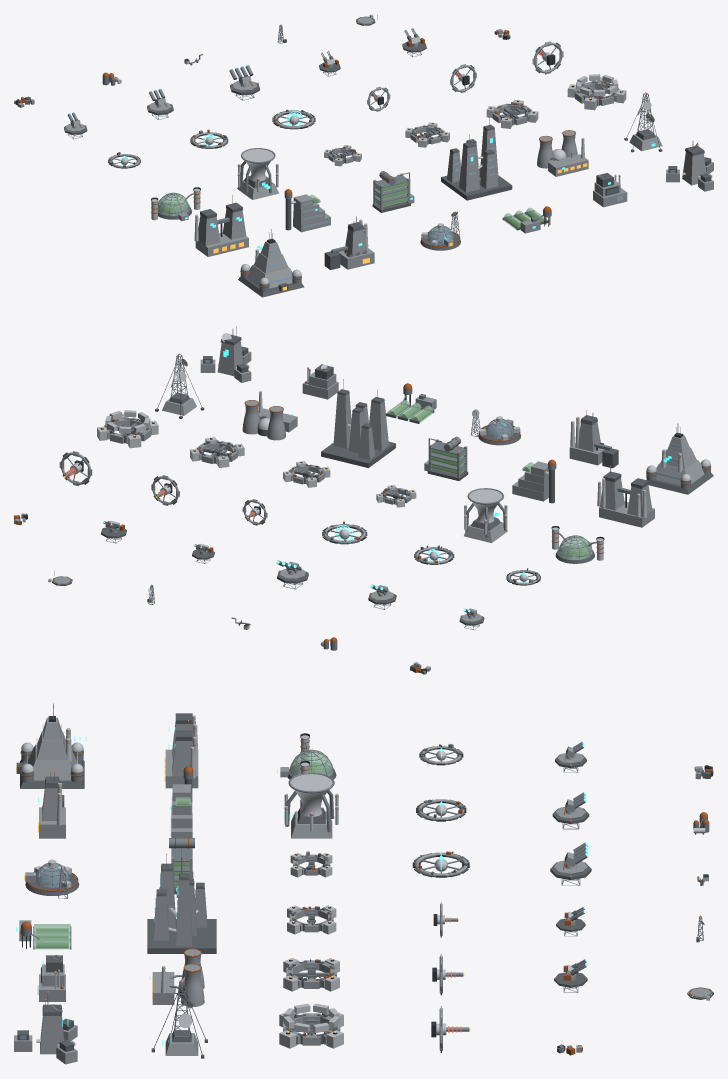
The model's file is building_constructor_industrial.glb.
The picture shows the model from 3 angles, top to bottom: view 1: azimuth 30°, elevation 25°; view 2: azimuth 150°, elevation 25°; view 3: azimuth 270°, elevation 25°; orthographic projection. The views are drawn at different scales.
Parts seen in each view (by area): view 1: 009_industrial_METROPLEX, 000_industrial_COLONY_BASE, 006_industrial_MEGAFACTORY, 013_industrial_TERRAFORMING, 010_industrial_POWER_PLANT, 001_industrial_FACTORY, 017_industrial_SPACE_DOCK_HUGE, 007_industrial_HABITAT, 008_industrial_ARTIFICAL_HYDROPONIFIER, 005_industrial_RESEARCH_CAMPUS, 012_industrial_ECO_BOOSTER, 011_industrial_SKY_NET (+11 smaller); view 2: 009_industrial_METROPLEX, 000_industrial_COLONY_BASE, 006_industrial_MEGAFACTORY, 013_industrial_TERRAFORMING, 001_industrial_FACTORY, 017_industrial_SPACE_DOCK_HUGE, 010_industrial_POWER_PLANT, 005_industrial_RESEARCH_CAMPUS, 008_industrial_ARTIFICAL_HYDROPONIFIER, 007_industrial_HABITAT, 012_industrial_ECO_BOOSTER, 002_industrial_OUTPOST (+10 smaller); view 3: 009_industrial_METROPLEX, 000_industrial_COLONY_BASE, 013_industrial_TERRAFORMING, 017_industrial_SPACE_DOCK_HUGE, 005_industrial_RESEARCH_CAMPUS, 006_industrial_MEGAFACTORY, 010_industrial_POWER_PLANT, 016_industrial_SPACE_DOCK_LARGE, 011_industrial_SKY_NET, 002_industrial_OUTPOST, 001_industrial_FACTORY, 007_industrial_HABITAT (+13 smaller).
Part boxes in pixels (bbox=[...]): 009_industrial_METROPLEX: bbox=[441, 115, 512, 200]; 000_industrial_COLONY_BASE: bbox=[238, 229, 304, 297]; 006_industrial_MEGAFACTORY: bbox=[194, 195, 248, 256]; 013_industrial_TERRAFORMING: bbox=[237, 148, 278, 199]; 010_industrial_POWER_PLANT: bbox=[537, 130, 588, 176]; 001_industrial_FACTORY: bbox=[324, 216, 374, 269]; 017_industrial_SPACE_DOCK_HUGE: bbox=[567, 74, 626, 110]; 007_industrial_HABITAT: bbox=[284, 189, 330, 232]; 008_industrial_ARTIFICAL_HYDROPONIFIER: bbox=[372, 171, 414, 212]; 005_industrial_RESEARCH_CAMPUS: bbox=[666, 140, 713, 191]; 012_industrial_ECO_BOOSTER: bbox=[151, 187, 200, 221]; 011_industrial_SKY_NET: bbox=[624, 92, 662, 152]; 009_industrial_METROPLEX: bbox=[321, 379, 395, 467]; 000_industrial_COLONY_BASE: bbox=[646, 423, 713, 494]; 006_industrial_MEGAFACTORY: bbox=[597, 465, 654, 527]; 013_industrial_TERRAFORMING: bbox=[464, 488, 507, 542]; 001_industrial_FACTORY: bbox=[569, 410, 618, 468]; 017_industrial_SPACE_DOCK_HUGE: bbox=[97, 410, 158, 448]; 010_industrial_POWER_PLANT: bbox=[242, 391, 297, 440]; 005_industrial_RESEARCH_CAMPUS: bbox=[200, 326, 251, 382]; 008_industrial_ARTIFICAL_HYDROPONIFIER: bbox=[424, 436, 468, 480]; 007_industrial_HABITAT: bbox=[512, 459, 556, 503]; 012_industrial_ECO_BOOSTER: bbox=[551, 526, 604, 563]; 002_industrial_OUTPOST: bbox=[471, 409, 520, 445]; 009_industrial_METROPLEX: bbox=[147, 853, 216, 953]; 000_industrial_COLONY_BASE: bbox=[16, 703, 86, 788]; 013_industrial_TERRAFORMING: bbox=[284, 771, 338, 838]; 017_industrial_SPACE_DOCK_HUGE: bbox=[279, 1003, 343, 1048]; 005_industrial_RESEARCH_CAMPUS: bbox=[14, 991, 77, 1064]; 006_industrial_MEGAFACTORY: bbox=[164, 713, 198, 788]; 010_industrial_POWER_PLANT: bbox=[149, 948, 204, 1006]; 016_industrial_SPACE_DOCK_LARGE: bbox=[283, 958, 339, 991]; 011_industrial_SKY_NET: bbox=[151, 980, 207, 1058]; 002_industrial_OUTPOST: bbox=[24, 859, 79, 898]; 001_industrial_FACTORY: bbox=[38, 770, 65, 838]; 007_industrial_HABITAT: bbox=[170, 766, 193, 837].
Bounding box in the file's own units: 33.43 × 4.6 × 32.39.
